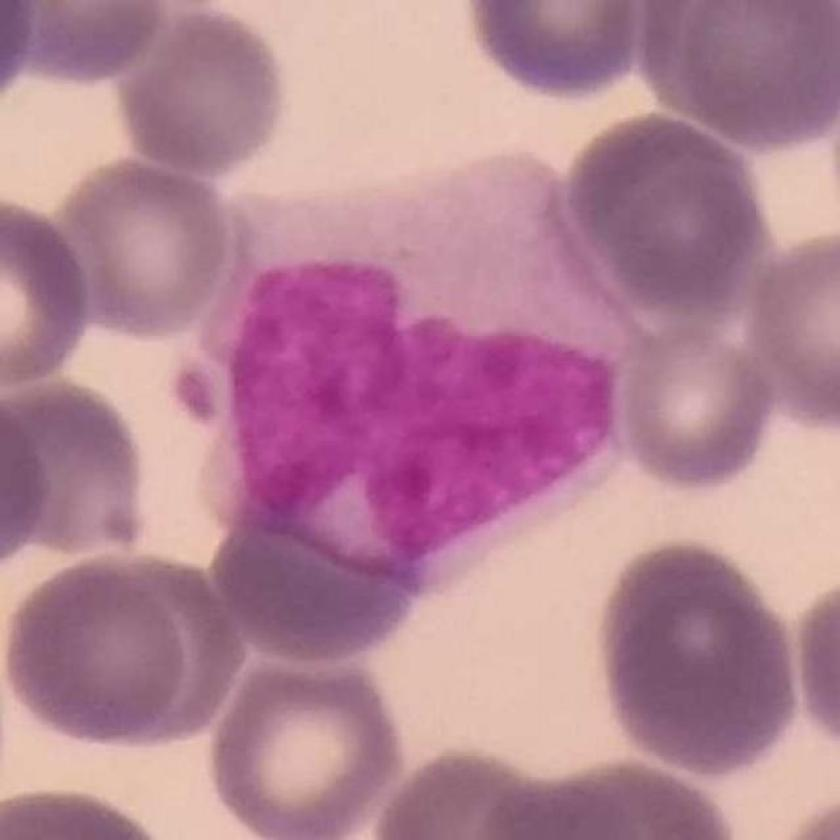monocyte: (192, 148, 684, 602)
